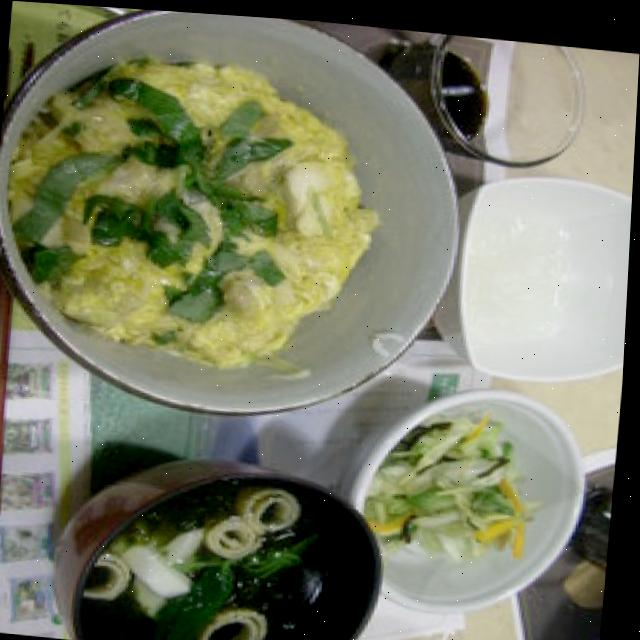米饭主食: (0, 0, 491, 433)
